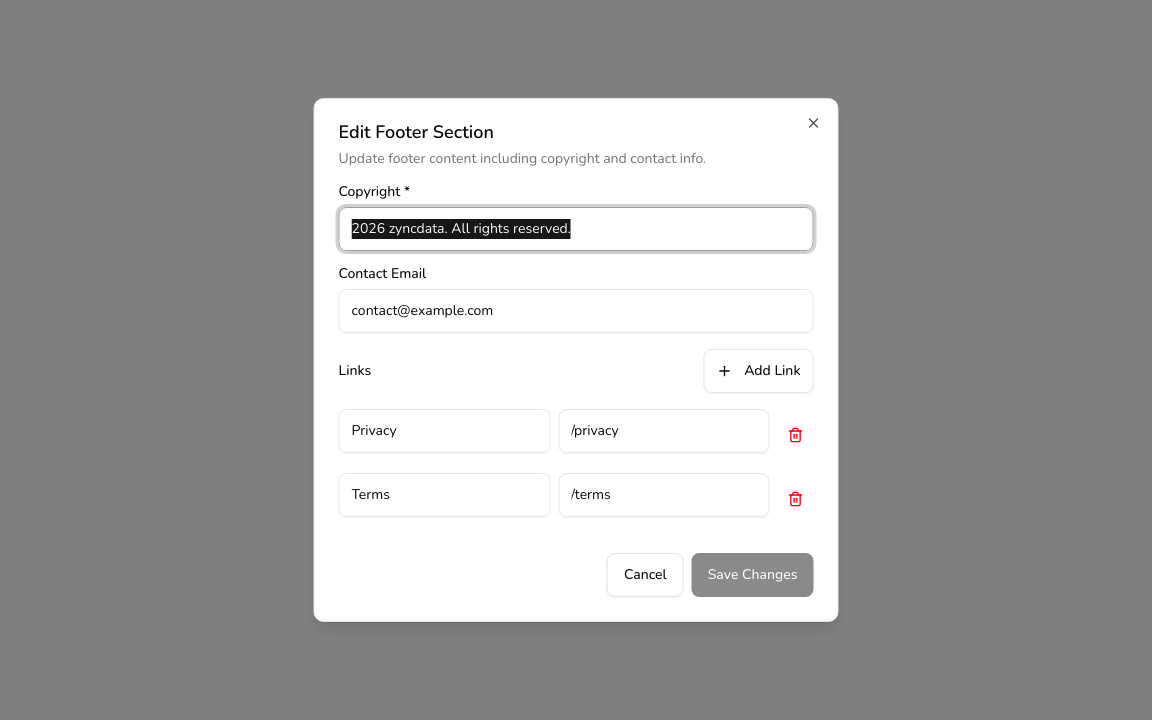
Scenario: FooterEditor › removes a link when remove is clicked
What coordinates should you click on to do the following:
click the button with test id "remove-link-1"
I would click on:
 (796, 499)
Its box is [778,477,814,521].
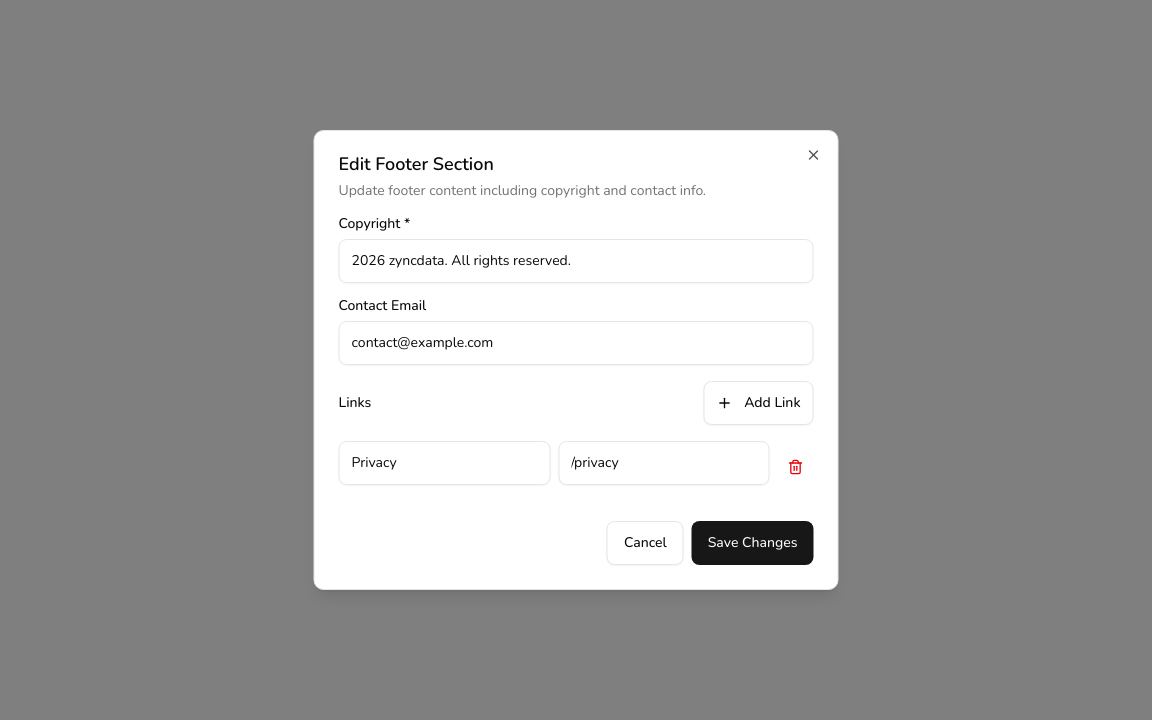
Now the element with test id "link-item-1" is gone
